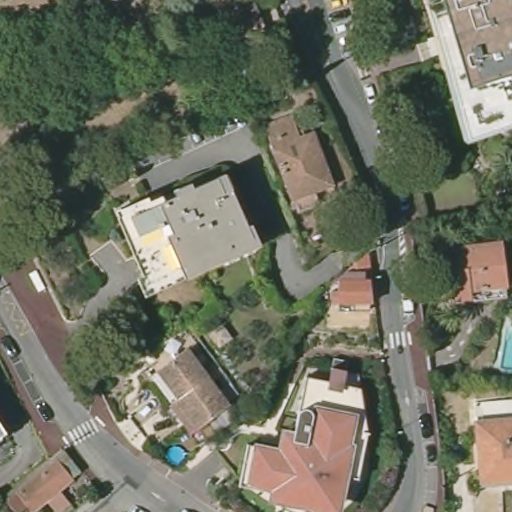pool: (493, 315, 512, 372), (161, 443, 193, 469)
